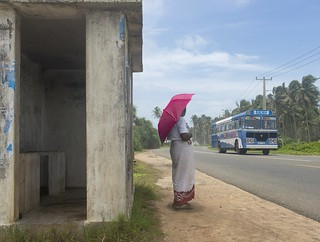bus: (210, 109, 279, 156)
